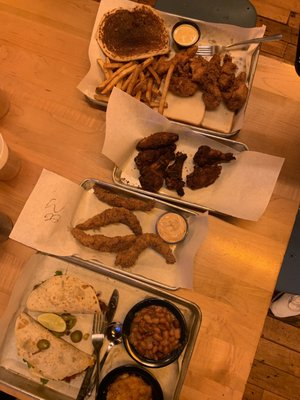sandwich: (82, 177, 262, 227)
